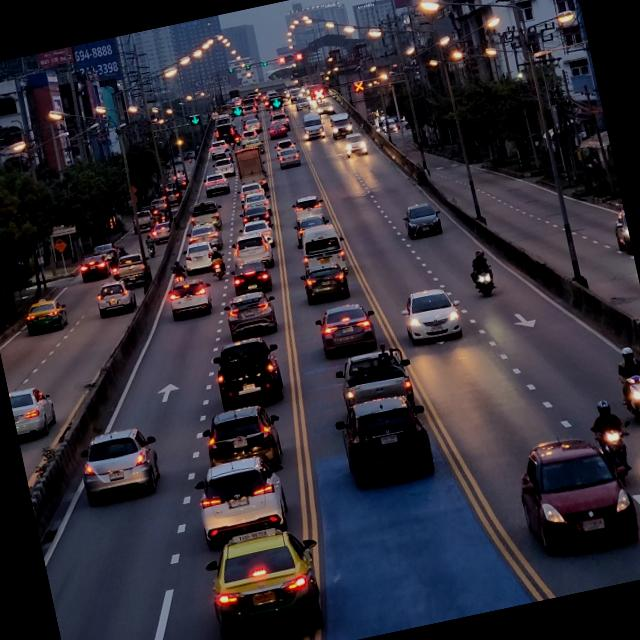Vehicle: (507, 422, 640, 562), (198, 518, 338, 640), (330, 390, 441, 493), (192, 450, 294, 543), (74, 420, 168, 507), (207, 328, 289, 414), (331, 342, 418, 418), (202, 402, 290, 476), (398, 278, 468, 350), (310, 298, 386, 362), (6, 374, 64, 439), (222, 284, 280, 340), (160, 278, 218, 325), (302, 258, 358, 306), (400, 197, 449, 243), (94, 276, 142, 318)
